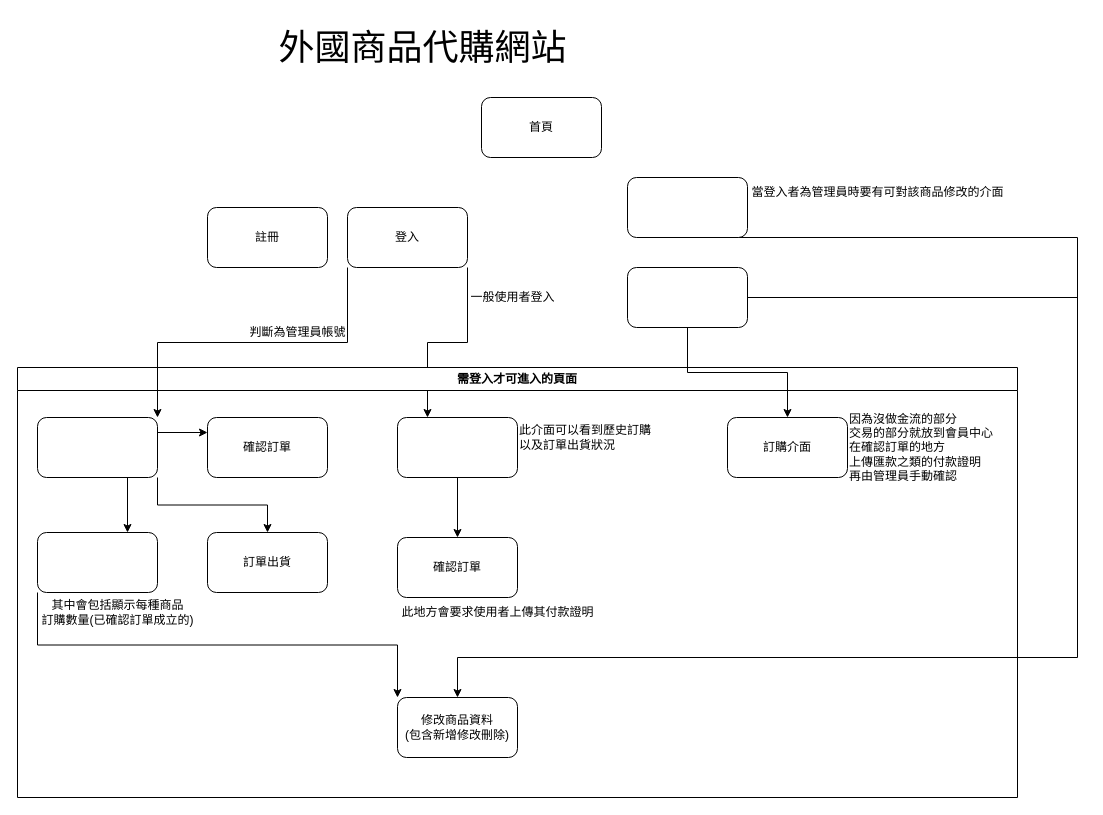
Image size: 1103x815. Some labels were removed from this diagram. Here are the shapes that lost their labels. From the top down, the centre of each, then its label:
At (x=687, y=207): "商品瀏覽".
At (x=687, y=297): "商品頁面".
At (x=97, y=447): "管理頁面".
At (x=457, y=447): "會員中心".
At (x=97, y=562): "商品數據頁面 (顯示訂購數據)".
